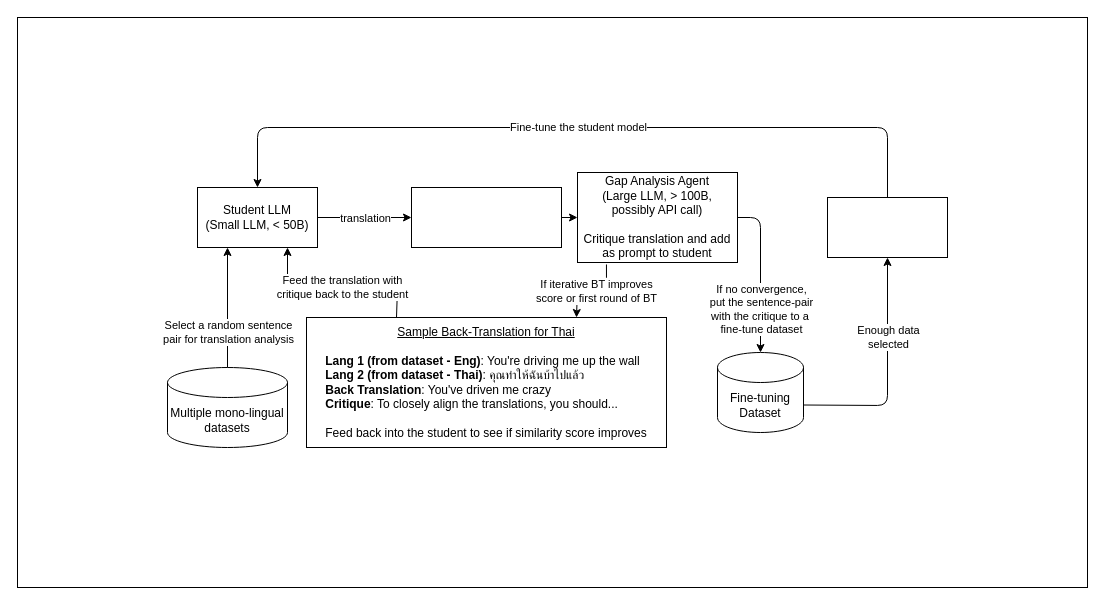
This 1105x605 diagram has some shape labels left out. Each missing label, with the box of its shape:
Finetune Model: (826, 196, 948, 258)
Get similarity metrics (multiple scores, let agent optimize downstream): (410, 186, 562, 248)
